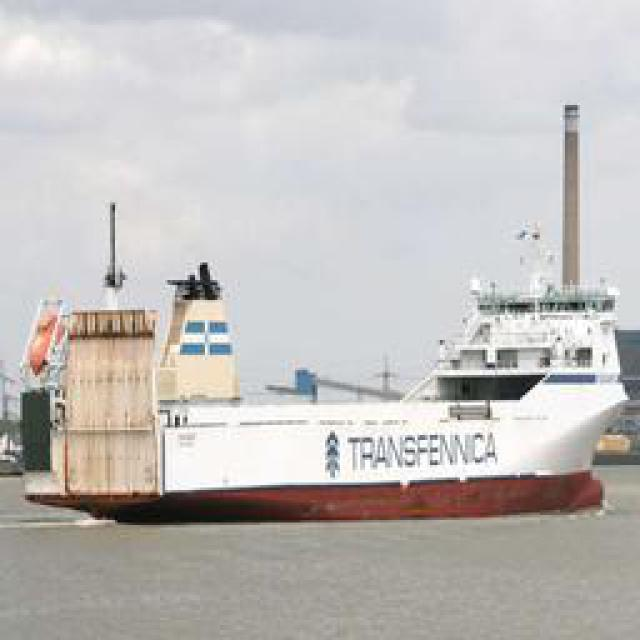Ship: (12, 255, 620, 528)
